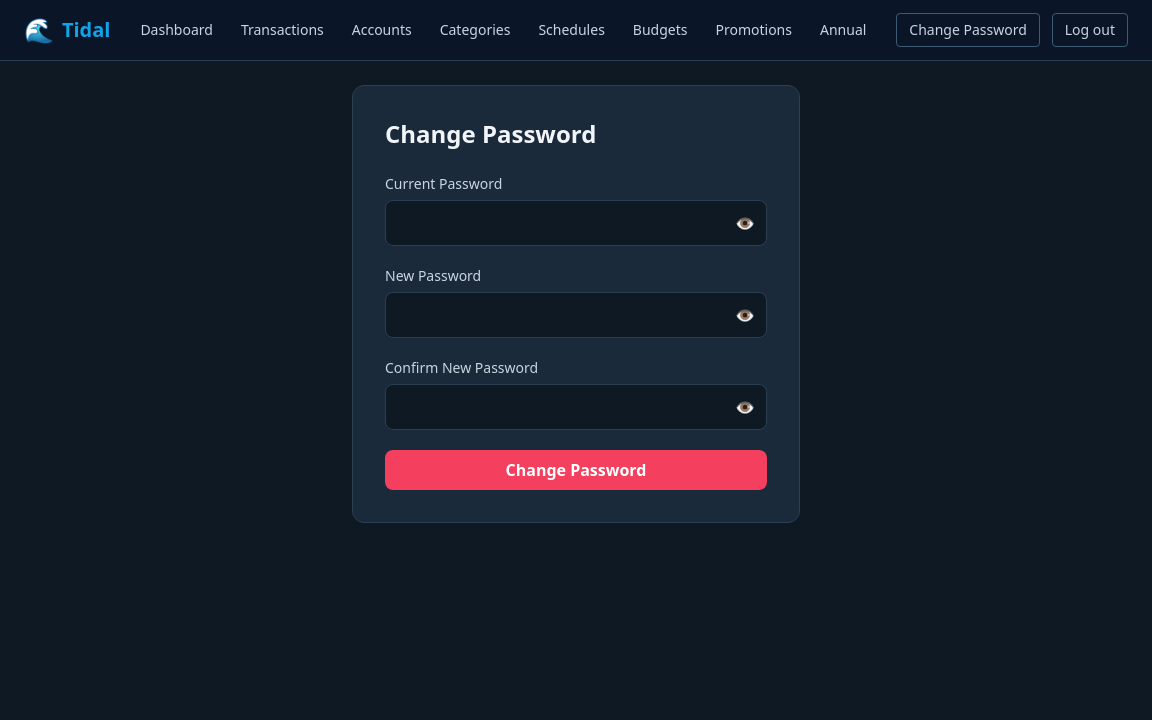
Test case: ChangePasswordPage › shows a success message after a successful password change
Type "oldpass123" into the password field labelled "Current Password" at (576, 223), box [385, 200, 767, 246]
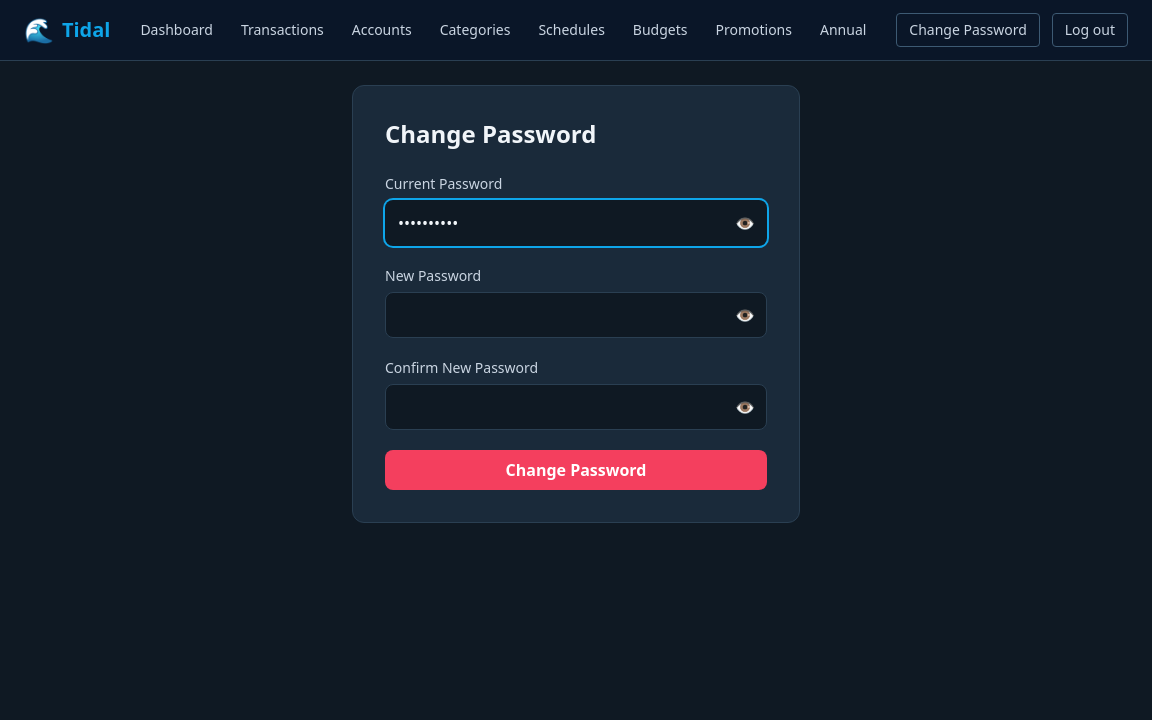
Type "newpass456" into the password field labelled "New Password" at (576, 315), box [385, 292, 767, 338]
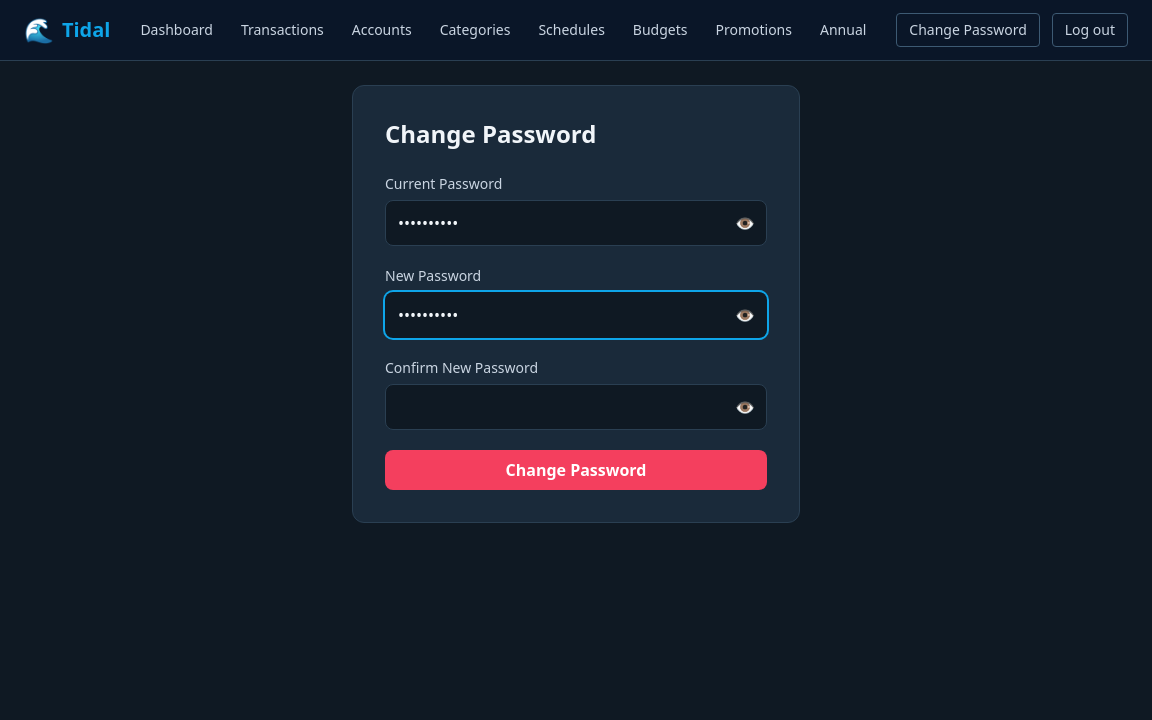
Type "newpass456" into the password field labelled "Confirm New Password" at (576, 407), box [385, 384, 767, 430]
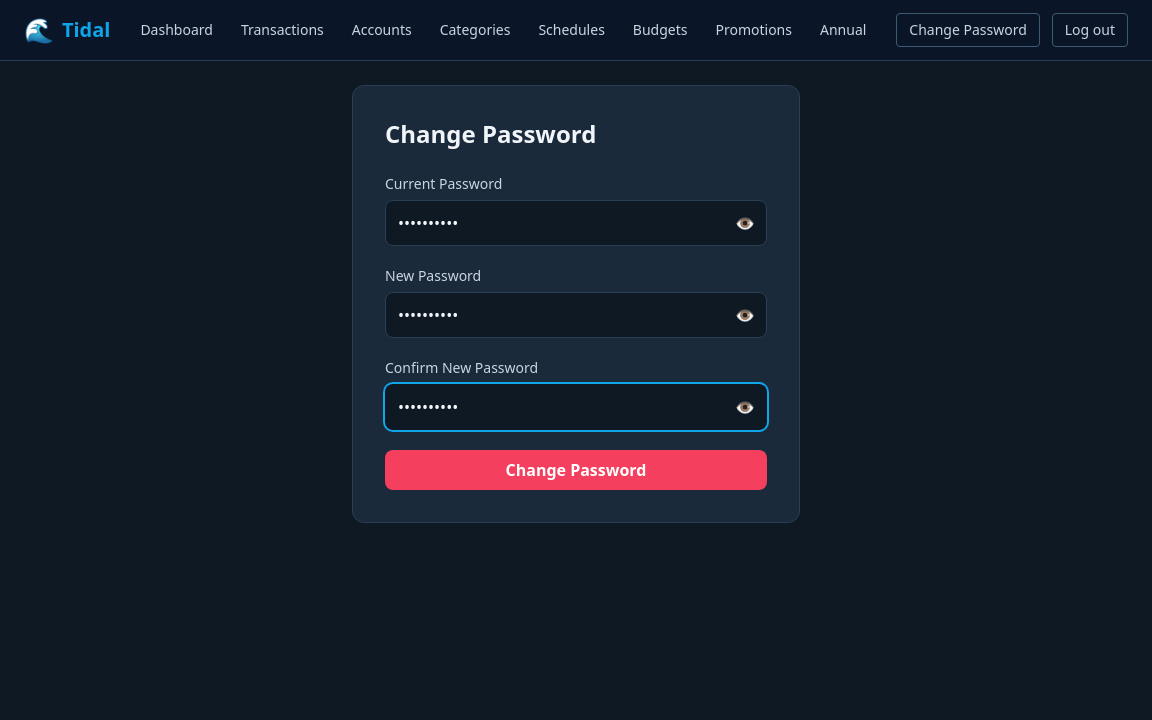
Click the button "Change Password" at (576, 470), box [385, 450, 767, 490]
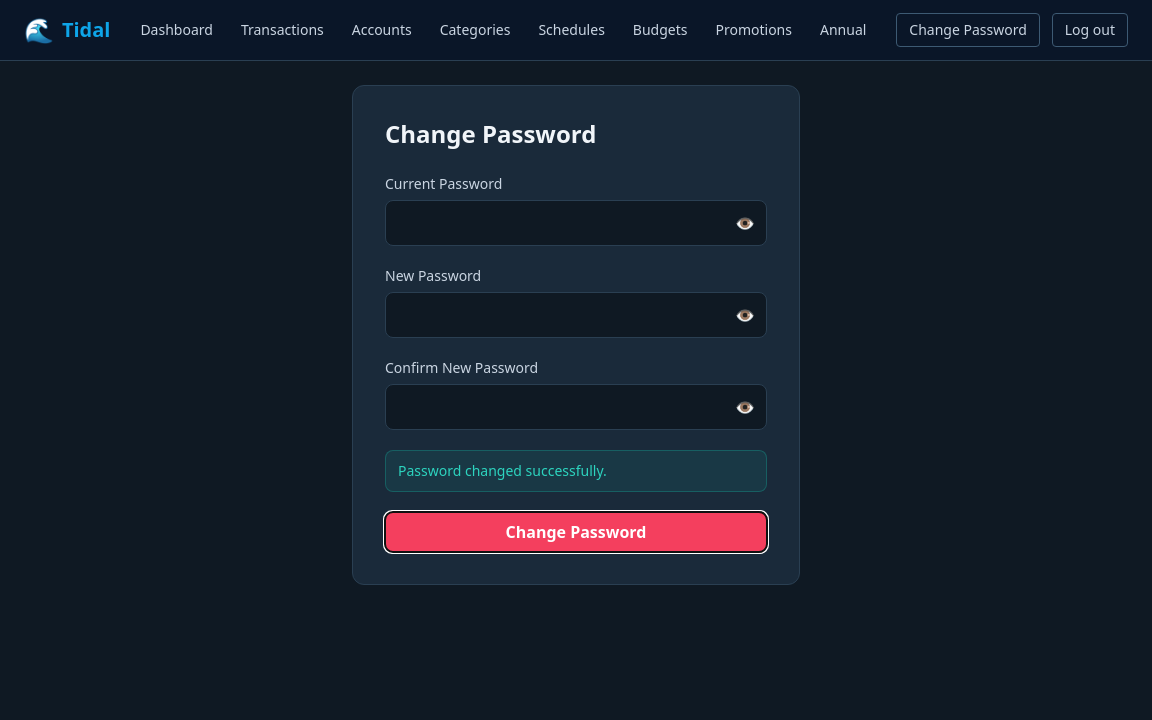
Expected: the text "Password changed successfully." is shown, [398, 461, 607, 480]
